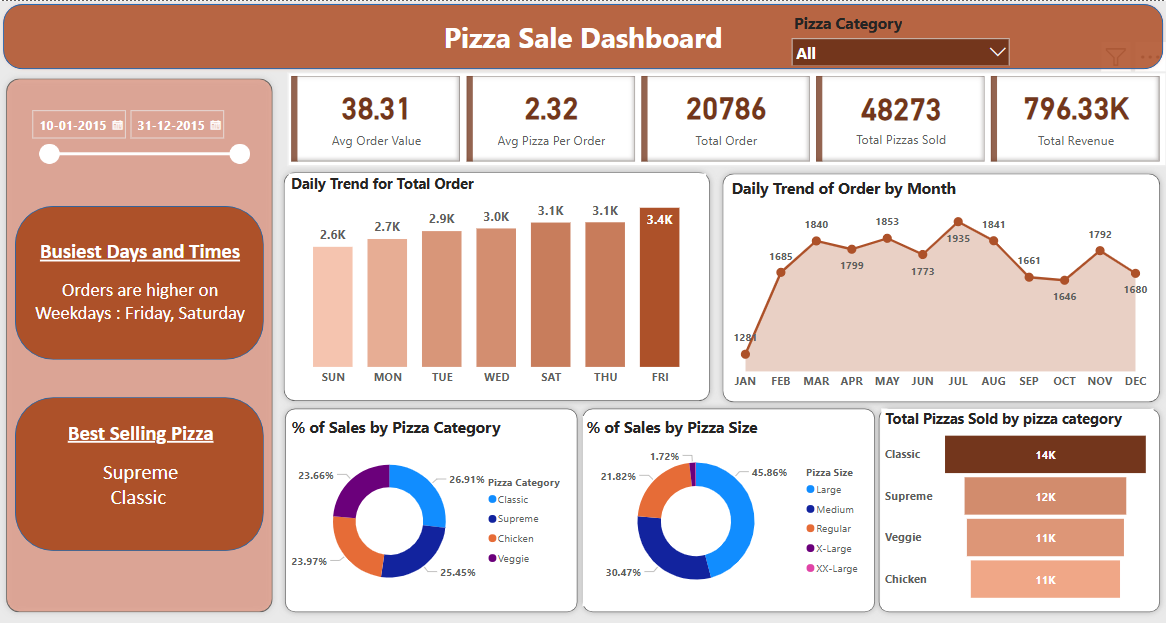

The dashboard page shown, as its layout file describes it:
{"tool":"powerbi","page":{"name":"Page 1","canvas":[1500,820],"ordinal":0},"visuals":[{"type":"cardVisual","fields":{"Data":["pizza_sales.Avg Order Value","pizza_sales.Avg Pizza Per Order","pizza_sales.Total Order","pizza_sales.Total Pizzas Sold","pizza_sales.Total Revenue"]},"box":[369.9,91.7,1130.5,120.6],"z":1000},{"type":"shape","box":[0,0,1500.3,91.7],"z":2000},{"type":"shape","box":[357,212.3,564.4,310.4],"z":3000},{"type":"columnChart","title":"Daily Trend for Total Order ","fields":{"Category":["pizza_sales.Order Day"],"Y":["pizza_sales.Total Order"]},"box":[371.5,221.9,537.1,283],"z":4000},{"type":"shape","box":[921.4,213.9,578.9,310.4],"z":5000},{"type":"areaChart","title":"Daily Trend of Order by Month","fields":{"Category":["pizza_sales.Name of Month"],"Y":["pizza_sales.Total Order"]},"box":[935.9,226.7,548.4,283],"z":6000},{"type":"shape","box":[358.6,516.2,392.4,278.2],"z":7000},{"type":"shape","box":[0,91.7,358.6,702.7],"z":7500},{"type":"donutChart","title":"% of Sales by Pizza Category","fields":{"Y":["pizza_sales.Total Revenue"],"Category":["pizza_sales.pizza_category"]},"box":[369.9,533.9,371.5,244.4],"z":8000},{"type":"shape","box":[1122.4,516.2,377.9,278.2],"z":9000},{"type":"shape","box":[741.3,516.2,392.4,278.2],"z":10000},{"type":"donutChart","title":"% of Sales by Pizza Size","fields":{"Y":["pizza_sales.Total Revenue"],"Category":["pizza_sales.pizza_size"]},"box":[749.4,533.9,371.5,244.4],"z":11000},{"type":"funnel","title":"Total Pizzas Sold by pizza category","fields":{"Category":["pizza_sales.pizza_category"],"Y":["pizza_sales.Total Pizzas Sold"]},"box":[1133.7,524.2,350.6,254.1],"z":12000},{"type":"textbox","box":[38.6,241.2,283,168.8],"z":13000},{"type":"slicer","fields":{"Values":["pizza_sales.pizza_category"]},"box":[1008.3,9.6,300.7,74],"z":13001},{"type":"slicer","fields":{"Values":["pizza_sales.order_date"]},"box":[180.1,0,300.7,83.6],"z":13002}]}

Visuals, with their boxes in screenshot pixels (x1, y1, x2, y2), scaled from the page's 1500x820 canvas onto the 1166x623 screenshot:
cardVisual - pizza_sales.Avg Order Value x pizza_sales.Avg Pizza Per Order: box=[288, 70, 1165, 161]
shape: box=[0, 0, 1165, 70]
shape: box=[278, 161, 716, 397]
"Daily Trend for Total Order " columnChart: box=[289, 169, 706, 384]
shape: box=[716, 163, 1165, 398]
"Daily Trend of Order by Month" areaChart: box=[728, 172, 1154, 387]
shape: box=[279, 392, 584, 604]
shape: box=[0, 70, 279, 604]
"% of Sales by Pizza Category" donutChart: box=[288, 406, 576, 591]
shape: box=[872, 392, 1165, 604]
shape: box=[576, 392, 881, 604]
"% of Sales by Pizza Size" donutChart: box=[583, 406, 871, 591]
"Total Pizzas Sold by pizza category" funnel: box=[881, 398, 1154, 591]
textbox: box=[30, 183, 250, 312]
slicer - pizza_sales.pizza_category: box=[784, 7, 1018, 64]
slicer - pizza_sales.order_date: box=[140, 0, 374, 64]
